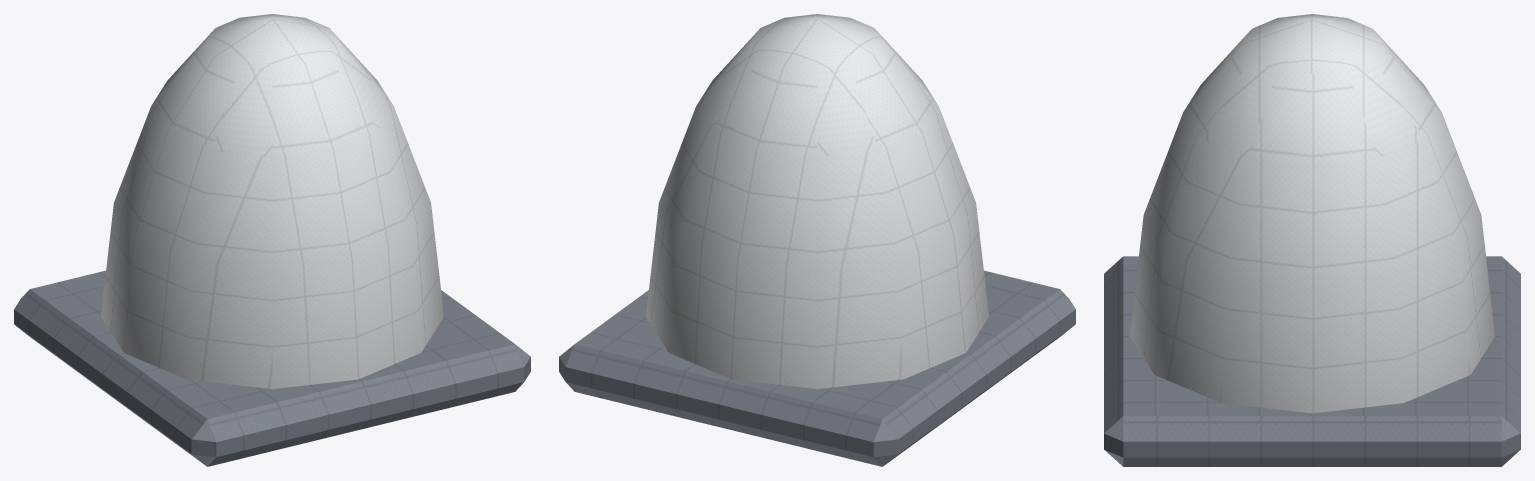
Rendered from R4B_Dome_LOD1.glb.
The picture shows the model from 3 angles, left to right: view 1: azimuth 30°, elevation 25°; view 2: azimuth 150°, elevation 25°; view 3: azimuth 270°, elevation 25°; orthographic projection. The views are drawn at different scales.
Parts seen in each view (by area): view 1: R4B_Dome_LOD1; view 2: R4B_Dome_LOD1; view 3: R4B_Dome_LOD1.
Part boxes in pixels (x1,y1,x2,y2): R4B_Dome_LOD1: (14,14,530,466); R4B_Dome_LOD1: (559,14,1075,466); R4B_Dome_LOD1: (1104,14,1520,466).
Size of the model in its own units: 0.52 by 0.506 by 0.52.
Materials: 2 (2 with a texture image).
